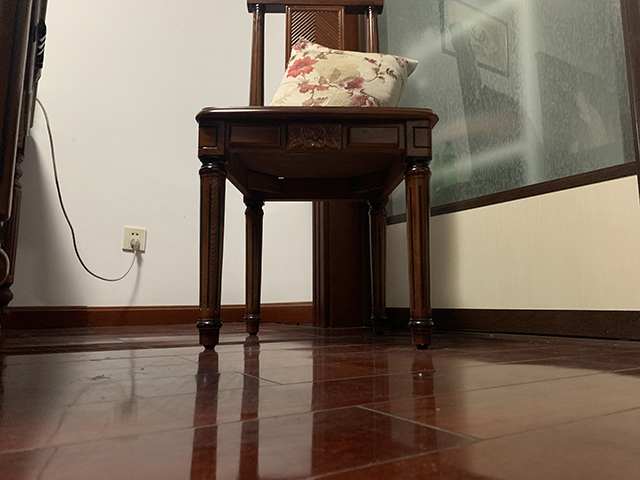stool: (195, 1, 440, 353)
wire: (39, 97, 142, 283)
